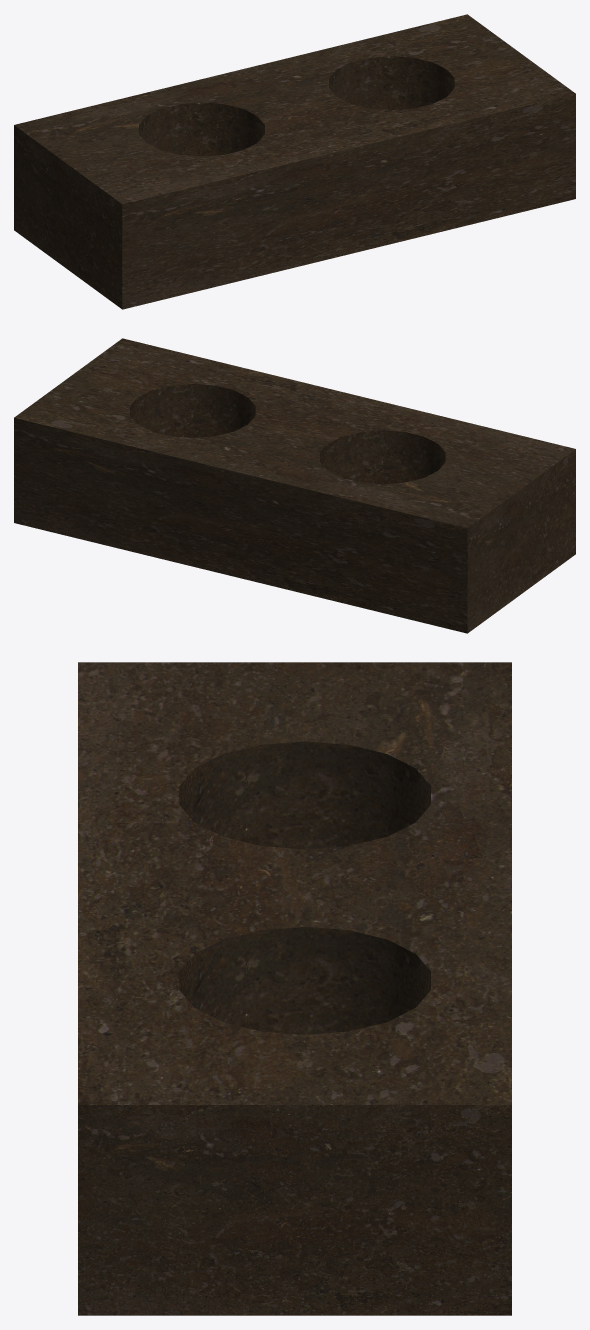
The model's file is block.fbx.
3 views of the same model, one above another, from view 1: azimuth 30°, elevation 25°; view 2: azimuth 150°, elevation 25°; view 3: azimuth 270°, elevation 25° (orthographic). The views are drawn at different scales.
Visible parts, largest first — view 1: Box001; view 2: Box001; view 3: Box001.
Part boxes in pixels (x1,y1,x2,y2): Box001: (14, 14, 575, 309); Box001: (14, 338, 575, 633); Box001: (78, 662, 511, 1315).
Size of the model in its own units: 69.24 by 15.36 by 28.69.
Materials: 1 (1 with a texture image).
